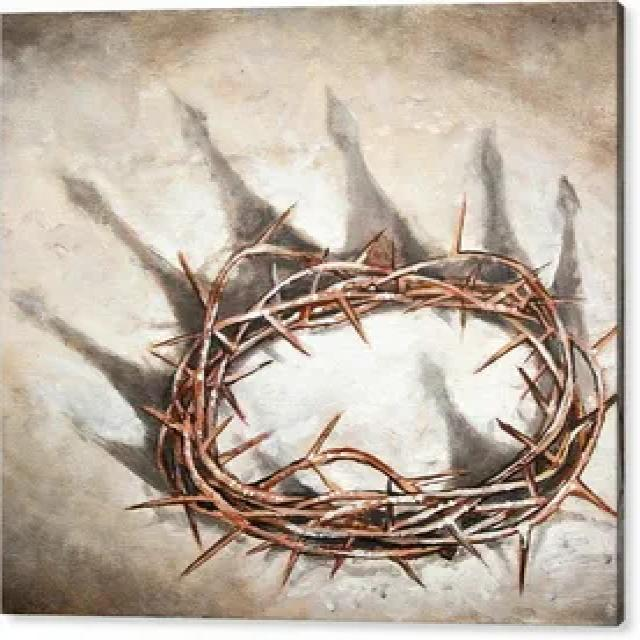crown: (141, 236, 611, 581)
